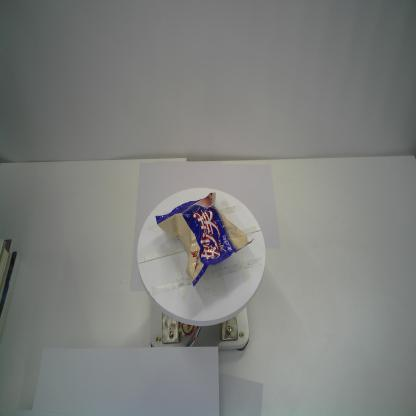Dessert: (152, 190, 255, 288)
